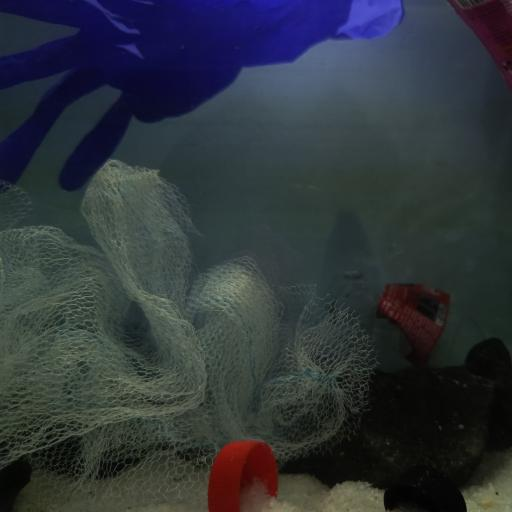bottle_cap: (207, 433, 281, 512), (384, 464, 467, 512)
glove: (2, 0, 408, 190)
net: (0, 158, 380, 512)
plastic_bottle: (328, 268, 487, 367)
